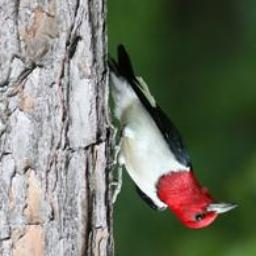Woodpecker: (101, 45, 243, 230)
